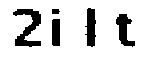2: (8, 5, 44, 50)
I: (85, 4, 100, 52)
i: (50, 7, 62, 50)
t: (114, 10, 137, 50)
